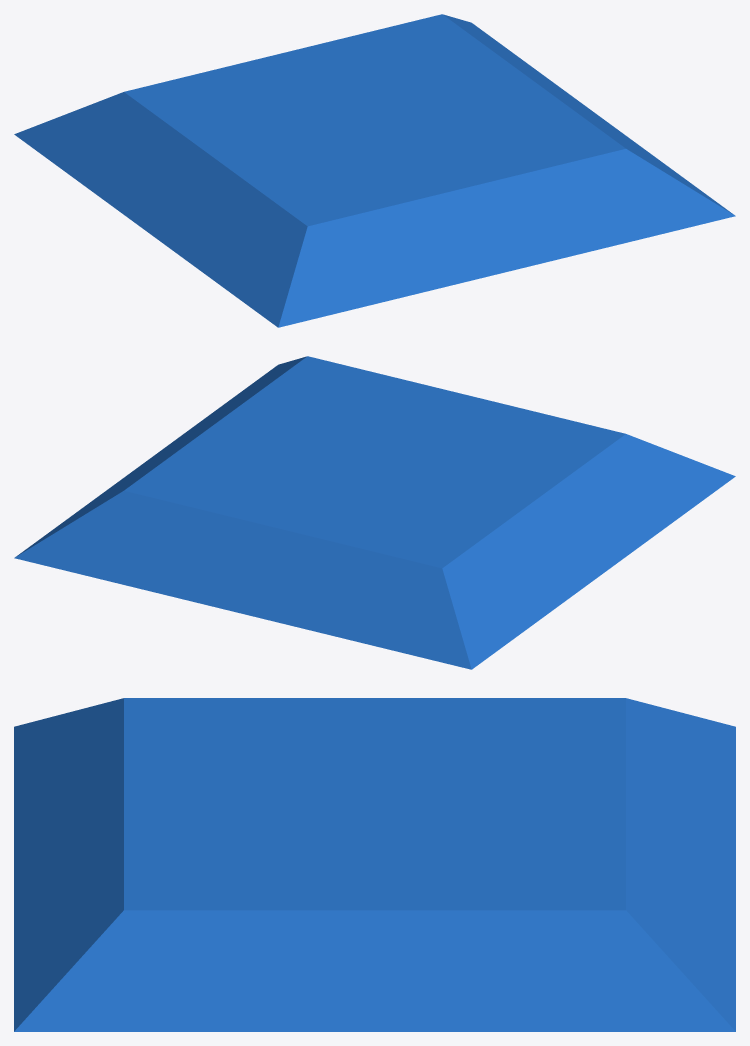
Rendered from checking platform.fbx.
The picture shows the model from 3 angles, top to bottom: view 1: azimuth 30°, elevation 25°; view 2: azimuth 150°, elevation 25°; view 3: azimuth 270°, elevation 25°; orthographic projection. The views are drawn at different scales.
Visible parts, largest first — view 1: Pyramid_Cube; view 2: Pyramid_Cube; view 3: Pyramid_Cube.
Part boxes in pixels (x1,y1,x2,y2): Pyramid_Cube: (14,14,735,327); Pyramid_Cube: (14,356,735,669); Pyramid_Cube: (14,698,735,1031).
Bounding box in the file's own units: 350 × 40.16 × 350.
